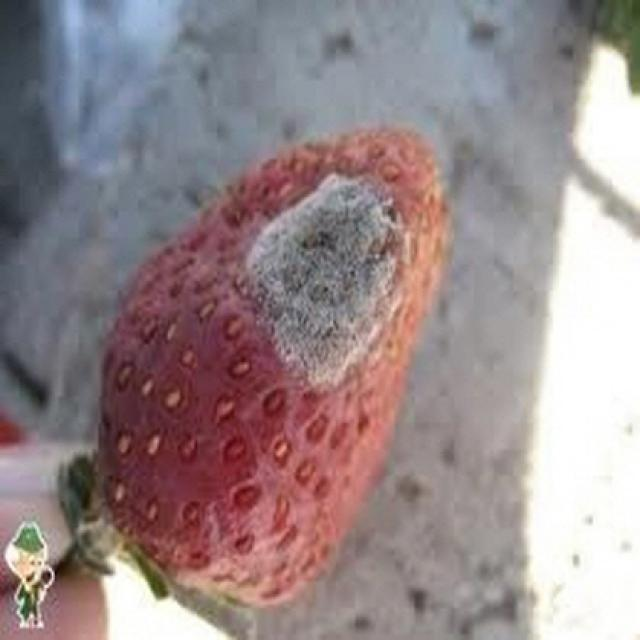Gray Mold: (93, 125, 454, 611)
